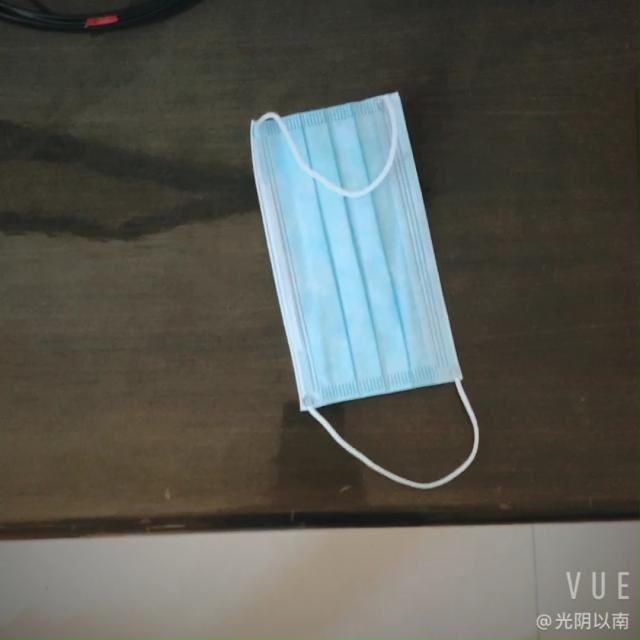non-organic waste: (234, 82, 481, 410)
